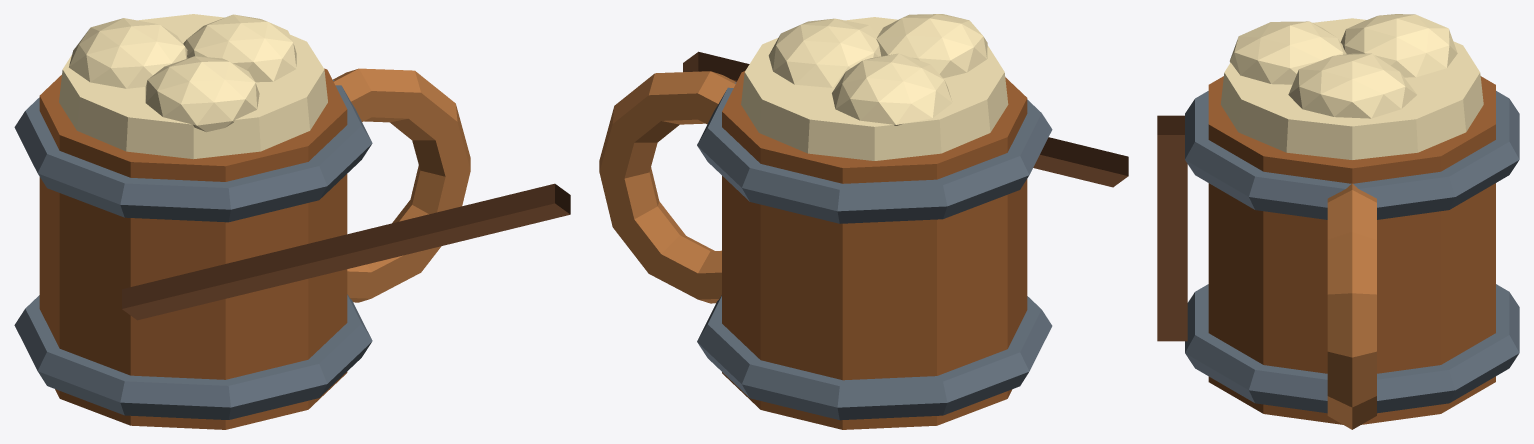
The model's file is kit_mug.glb.
3 views of the same model, side by side, from view 1: azimuth 30°, elevation 25°; view 2: azimuth 150°, elevation 25°; view 3: azimuth 270°, elevation 25° (orthographic). The views are drawn at different scales.
Parts seen in each view (by area): view 1: Tankard body, Woodland worn prop binding.002, Tankard band.001, Tankard band, Foam surface, Tankard handle, Foam bubble.002, Foam bubble, Foam bubble.001; view 2: Tankard body, Tankard handle, Tankard band.001, Tankard band, Foam surface, Foam bubble, Foam bubble.001, Foam bubble.002, Woodland worn prop binding.002; view 3: Tankard body, Foam surface, Tankard band.001, Tankard band, Tankard handle, Woodland worn prop binding.002, Foam bubble.001, Foam bubble, Foam bubble.002.
Boxes of the visible parts, <box> form: Tankard body: <box>39,68,347,429</box>; Woodland worn prop binding.002: <box>122,183,570,320</box>; Tankard band.001: <box>14,80,372,222</box>; Tankard band: <box>14,294,372,419</box>; Foam surface: <box>59,14,327,159</box>; Tankard handle: <box>333,68,470,302</box>; Foam bubble.002: <box>145,56,259,131</box>; Foam bubble: <box>69,18,187,88</box>; Foam bubble.001: <box>183,14,296,82</box>; Tankard body: <box>722,71,1027,429</box>; Tankard handle: <box>599,71,735,303</box>; Tankard band.001: <box>697,82,1052,223</box>; Tankard band: <box>697,295,1052,420</box>; Foam surface: <box>741,17,1008,160</box>; Foam bubble: <box>832,53,952,125</box>; Foam bubble.001: <box>768,18,880,87</box>; Foam bubble.002: <box>876,14,987,78</box>; Woodland worn prop binding.002: <box>683,51,1128,187</box>; Tankard body: <box>1208,76,1495,424</box>; Foam surface: <box>1220,18,1483,159</box>; Tankard band.001: <box>1185,91,1519,219</box>; Tankard band: <box>1185,284,1519,413</box>; Tankard handle: <box>1327,183,1376,429</box>; Woodland worn prop binding.002: <box>1157,115,1187,341</box>; Foam bubble.001: <box>1288,53,1416,118</box>; Foam bubble: <box>1340,14,1457,77</box>; Foam bubble.002: <box>1229,21,1346,84</box>.
Bounding box in the file's own units: 0.275 × 0.2021 × 0.2038.
